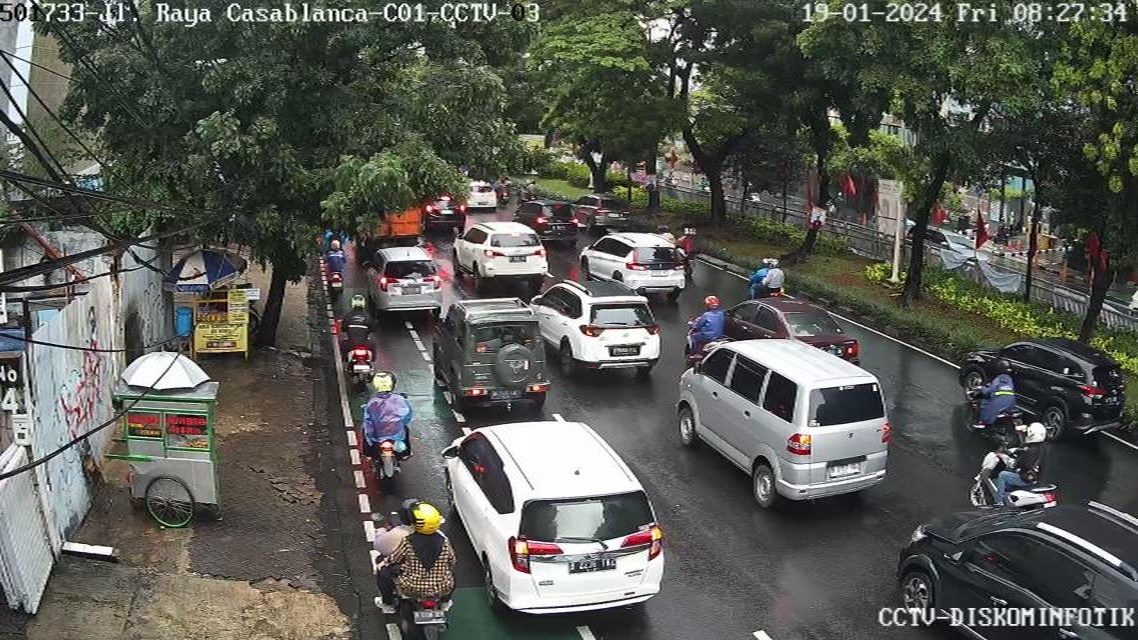Gerobak: (105, 383, 233, 516), (187, 295, 256, 362)
